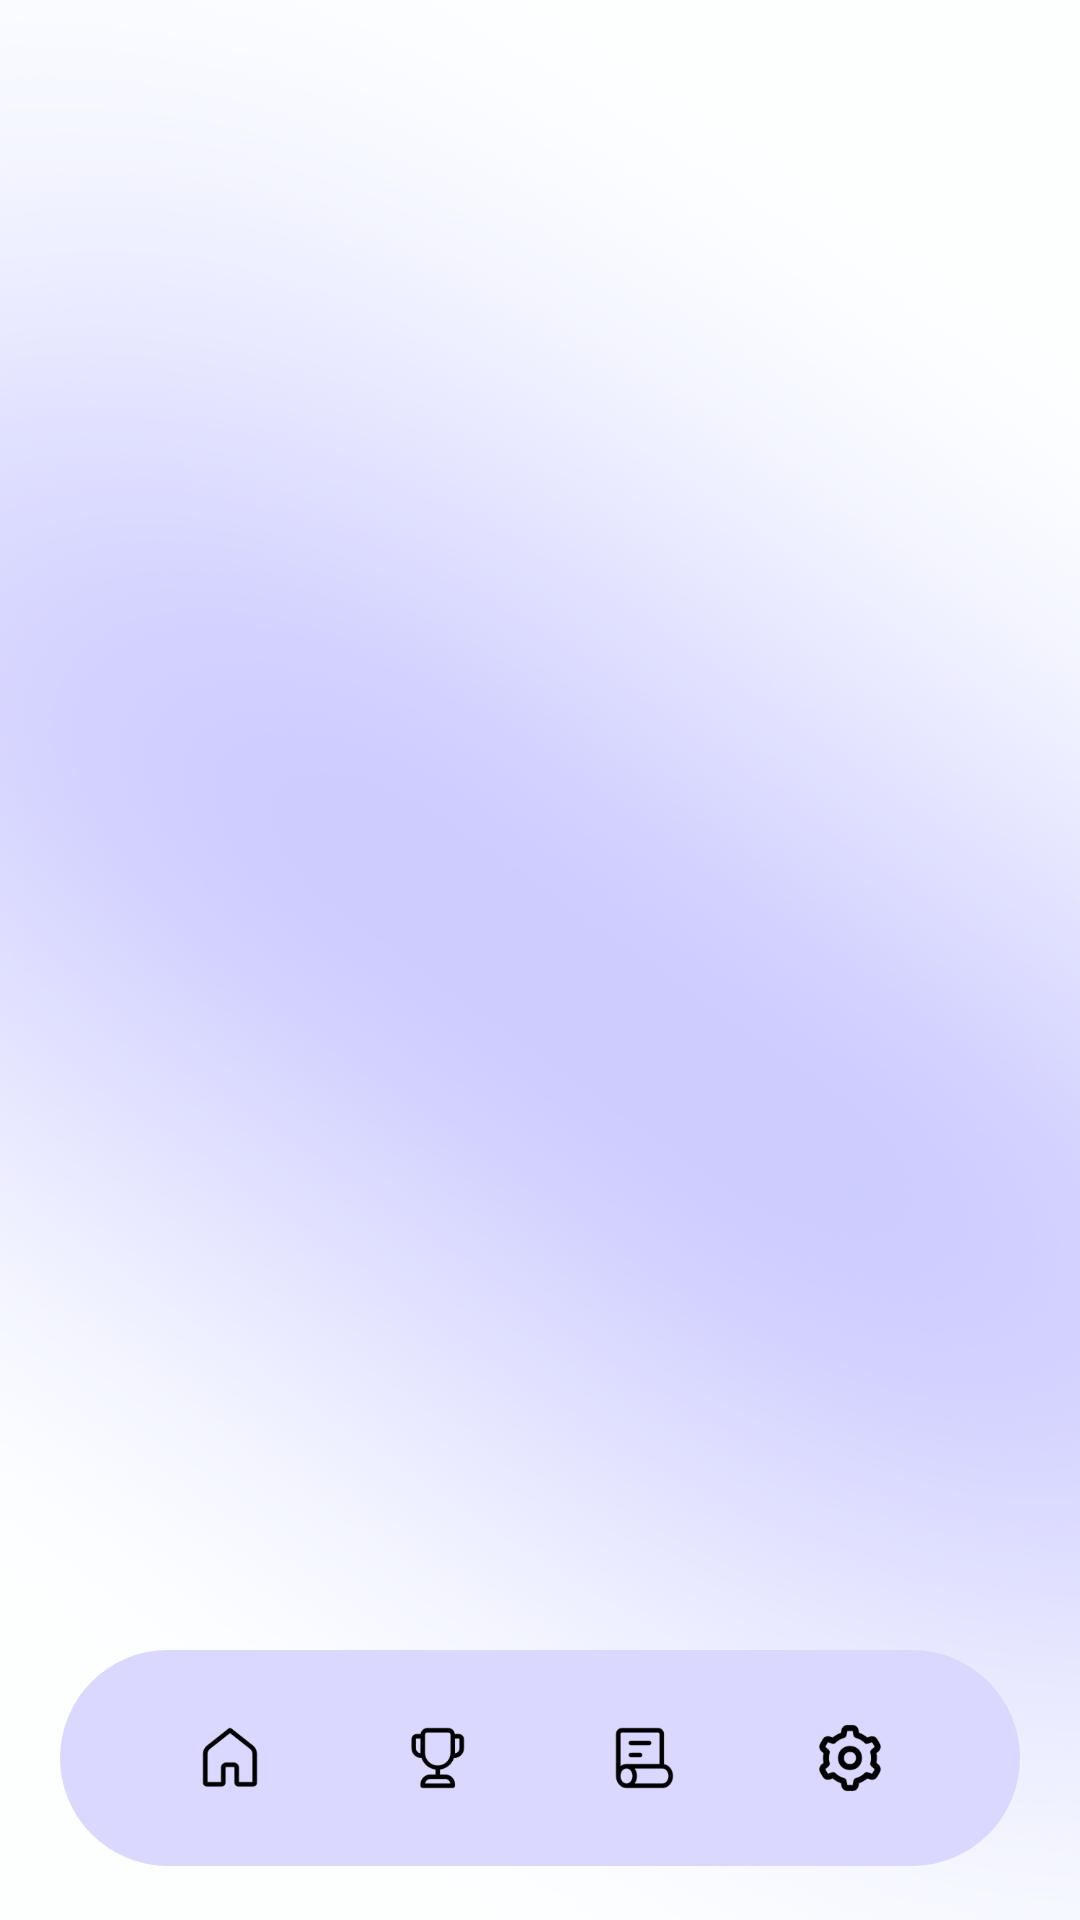

Screen size 1080 × 1920. Icon name, then its center in pixels as (x=x, y=y):
history: (x=644, y=1758)
home: (x=230, y=1757)
setting: (x=850, y=1758)
trophy: (x=438, y=1758)
